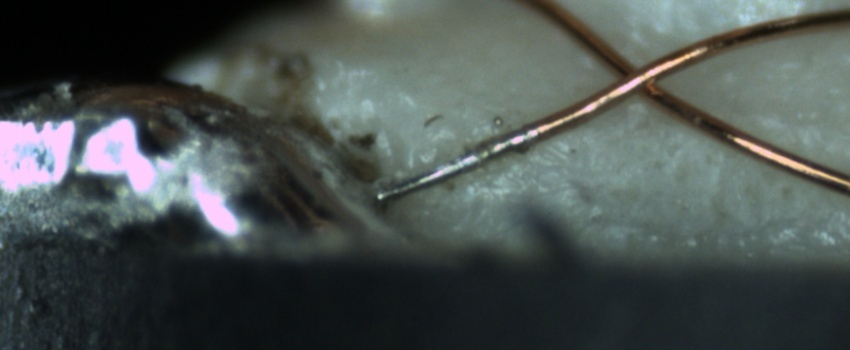CL: (587, 41, 683, 111)
TS: (377, 130, 533, 205)
